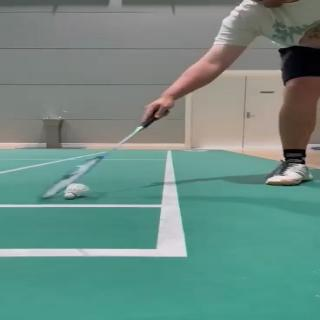Shuttle: (64, 183, 91, 200)
